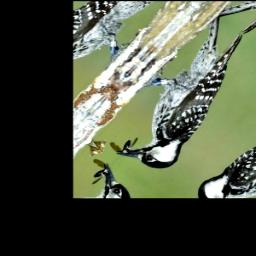Woodpecker: (92, 13, 256, 184)
